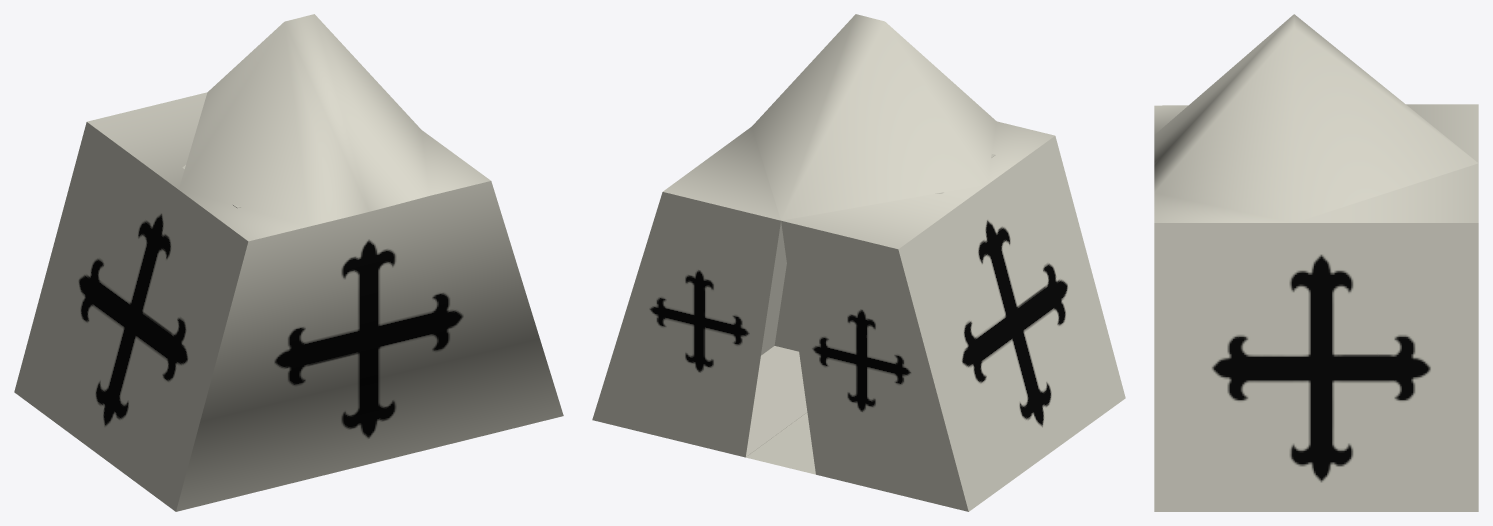
File: Tienda_de_guardia.fbx
3 views of the same model, side by side, from view 1: azimuth 30°, elevation 25°; view 2: azimuth 150°, elevation 25°; view 3: azimuth 270°, elevation 25° (orthographic). The views are drawn at different scales.
Parts seen in each view (by area): view 1: Box001; view 2: Box001; view 3: Box001.
Boxes of the visible parts, bbox=[...] form: Box001: bbox=[14, 14, 563, 511]; Box001: bbox=[592, 14, 1125, 511]; Box001: bbox=[1154, 14, 1478, 511].
Size of the model in its own units: 1.61 by 1.57 by 1.16.
1 material, 1 textured.
